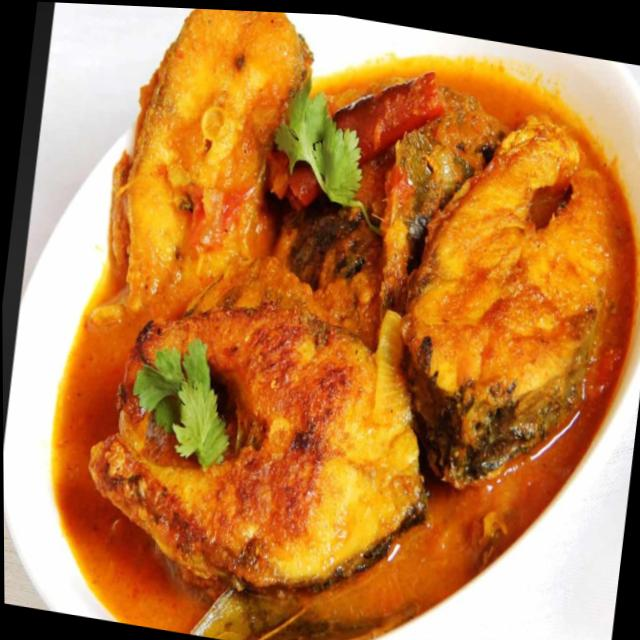FISH CURRY: (56, 9, 639, 640)
